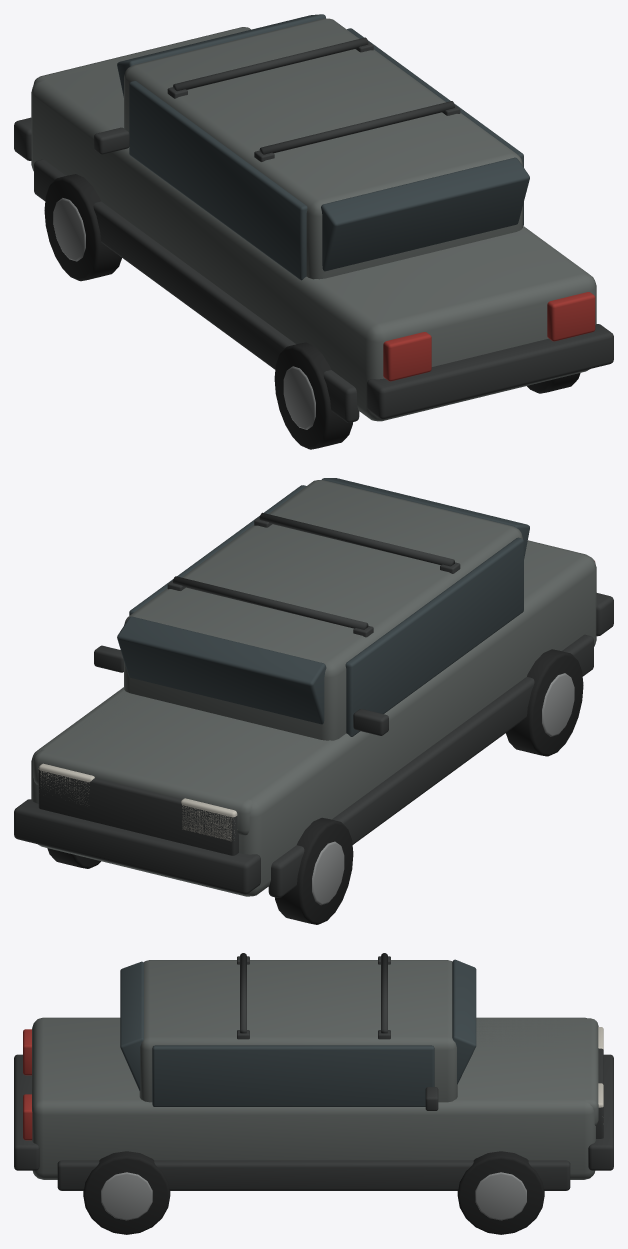
The model's file is estate_car_v1.glb.
3 views of the same model, one above another, from view 1: azimuth 30°, elevation 25°; view 2: azimuth 150°, elevation 25°; view 3: azimuth 270°, elevation 25° (orthographic). The views are drawn at different scales.
Visible parts, largest first — view 1: EstateCar; view 2: EstateCar; view 3: EstateCar.
Boxes of the visible parts, x1,y1,x2,y2 form: EstateCar: [14, 14, 613, 449]; EstateCar: [14, 478, 613, 924]; EstateCar: [14, 953, 613, 1234].
Size of the model in its own units: 2.12 by 1.67 by 4.68.
